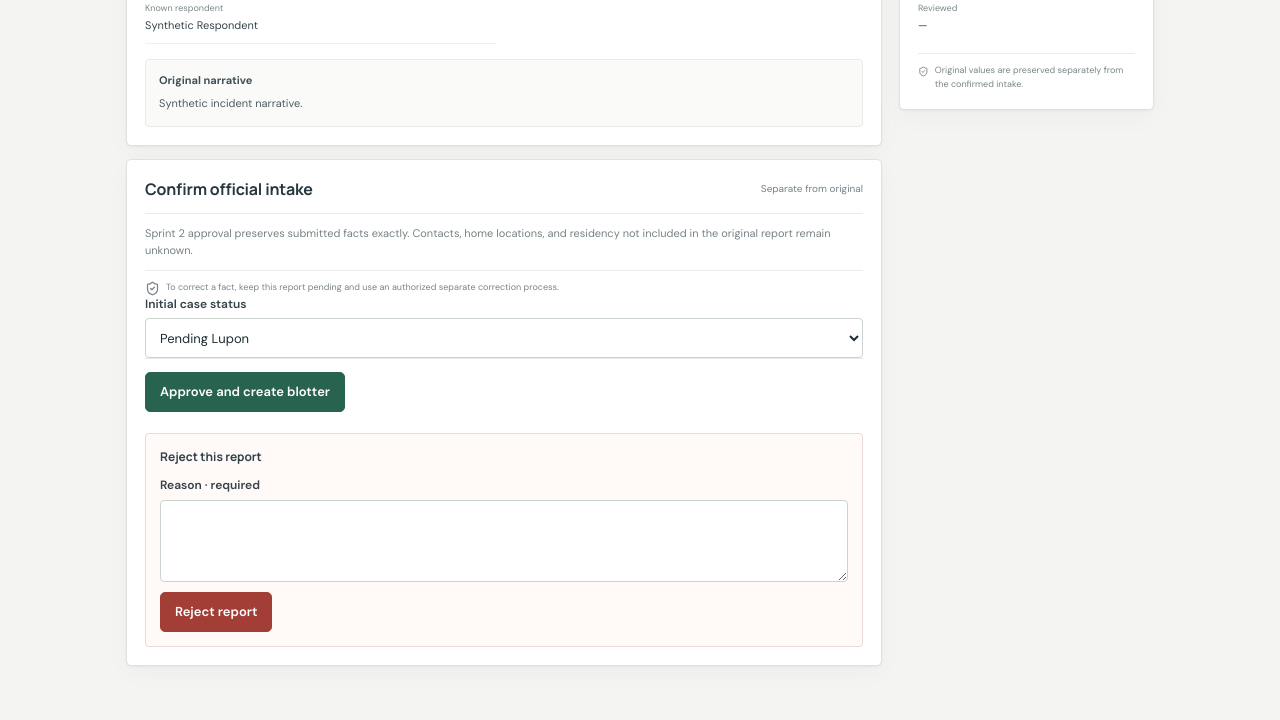
Test: resident report review retries › labels an idempotent approval as the existing case
(page scrolled)
Step 1. Click the button "Approve and create blotter" → (245, 392), box [145,372,345,412]
(page scrolled)
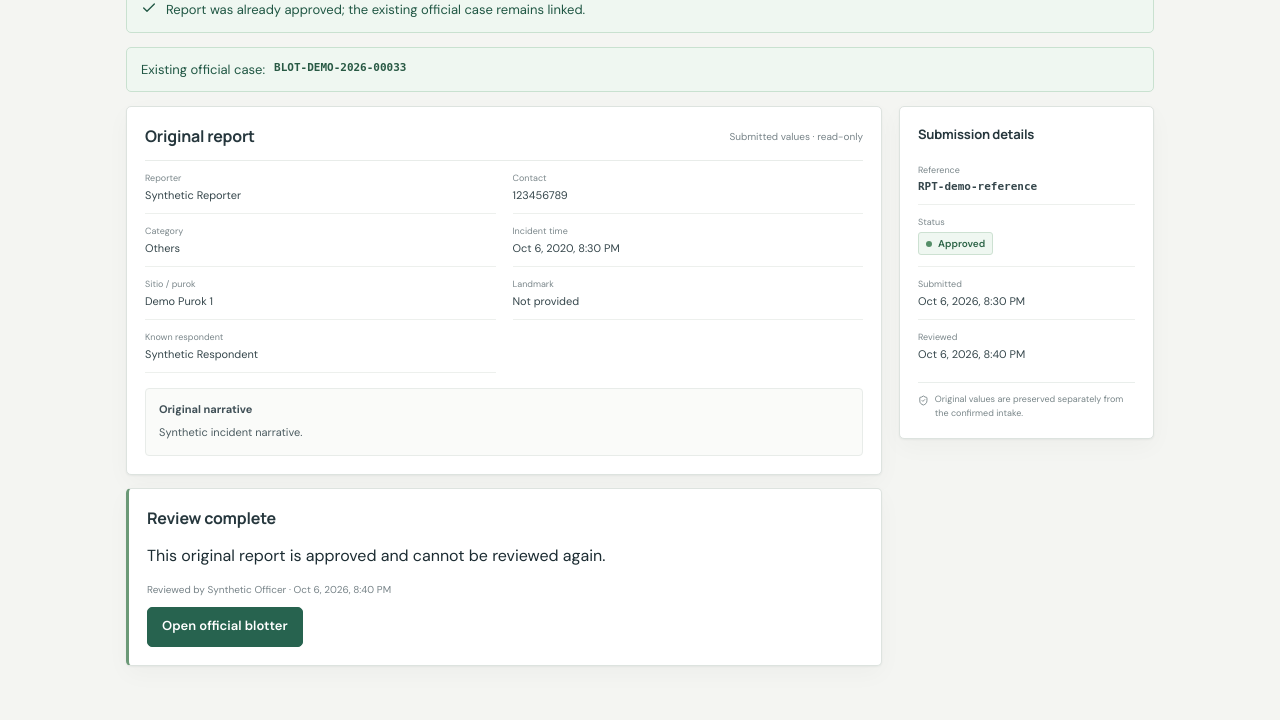
Expected: the text "Existing official case: BLOT-DEMO-2026-00033" is shown, [126,47,1154,92]
